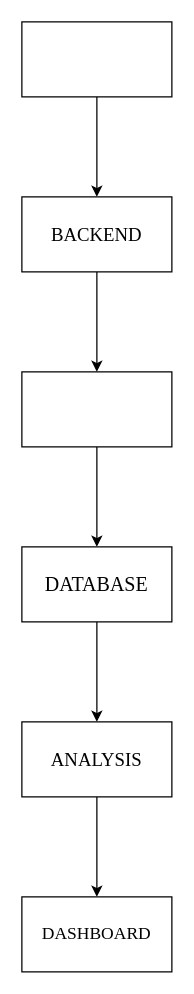
The diagram is 194 pixels wide and 994 high, and some of its shapes have lost their labels. The shapes that lost their labels are listed below. From the top down, each one's centre as x and y in pixels, then its label:
(96,59): FRONTEND
(96,409): AI/API
